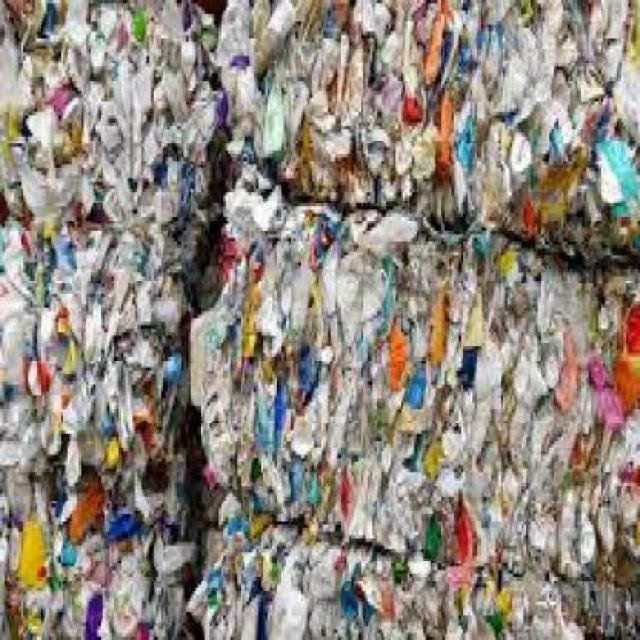garbage: (217, 225, 626, 554), (3, 11, 184, 630), (240, 11, 626, 196), (183, 511, 602, 637)
